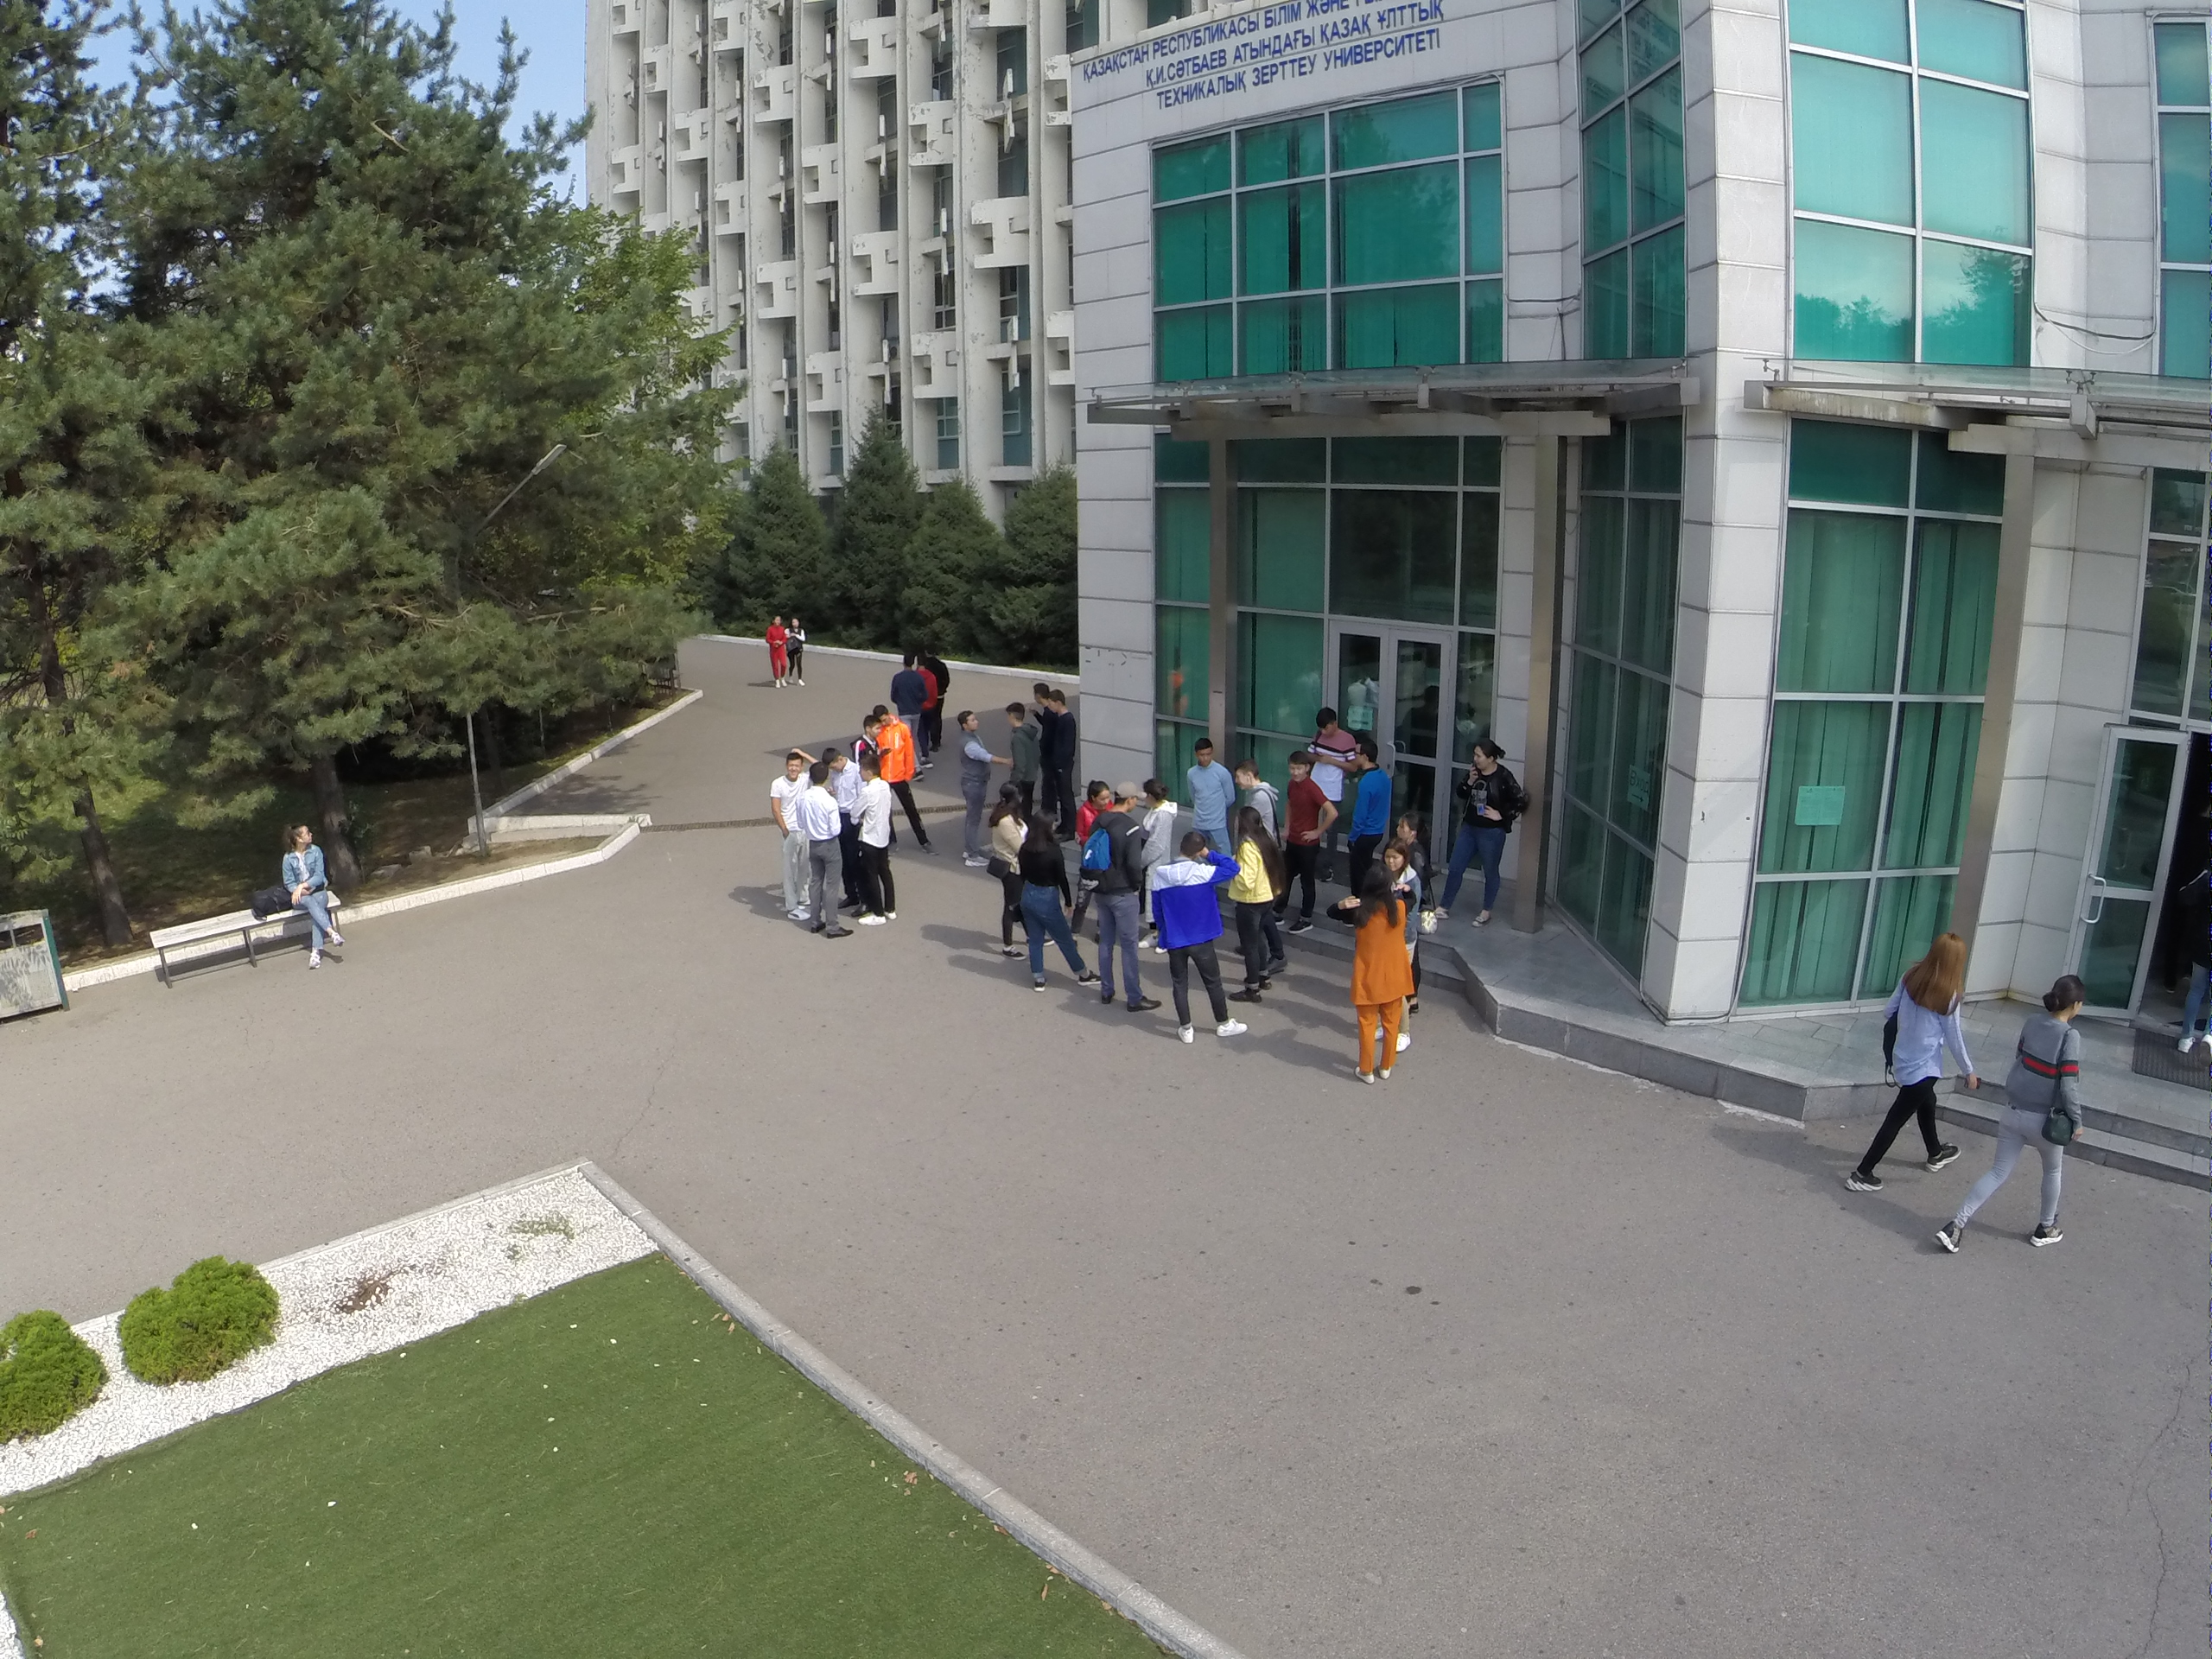person: (1949, 976, 2094, 1263), (1839, 925, 1972, 1205), (1150, 829, 1242, 1045), (1095, 786, 1166, 1014), (1442, 730, 1521, 928), (1020, 809, 1097, 994), (283, 819, 347, 977), (1353, 871, 1396, 1090), (1283, 759, 1337, 939), (765, 740, 815, 923), (988, 782, 1036, 963), (879, 703, 936, 855), (1231, 806, 1274, 1005), (805, 760, 849, 941), (852, 754, 897, 928), (1040, 687, 1081, 842), (956, 709, 994, 874), (1188, 736, 1236, 847), (1351, 738, 1390, 856), (894, 650, 923, 789), (1134, 773, 1179, 864), (1003, 700, 1038, 798), (1312, 709, 1346, 796), (823, 742, 857, 812), (1234, 760, 1265, 824), (1079, 773, 1111, 830), (789, 614, 808, 681), (855, 712, 879, 758), (766, 616, 783, 685)
